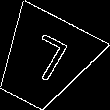L_SW: (16, 32, 71, 90)
